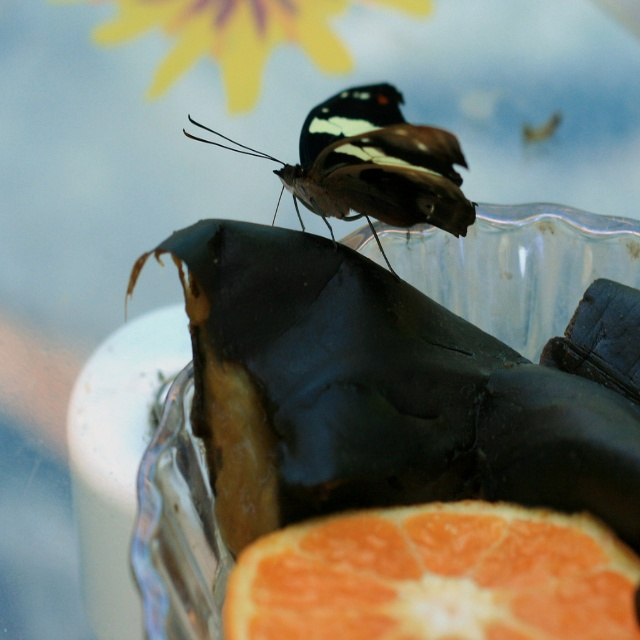Butterfly: (222, 60, 467, 309)
